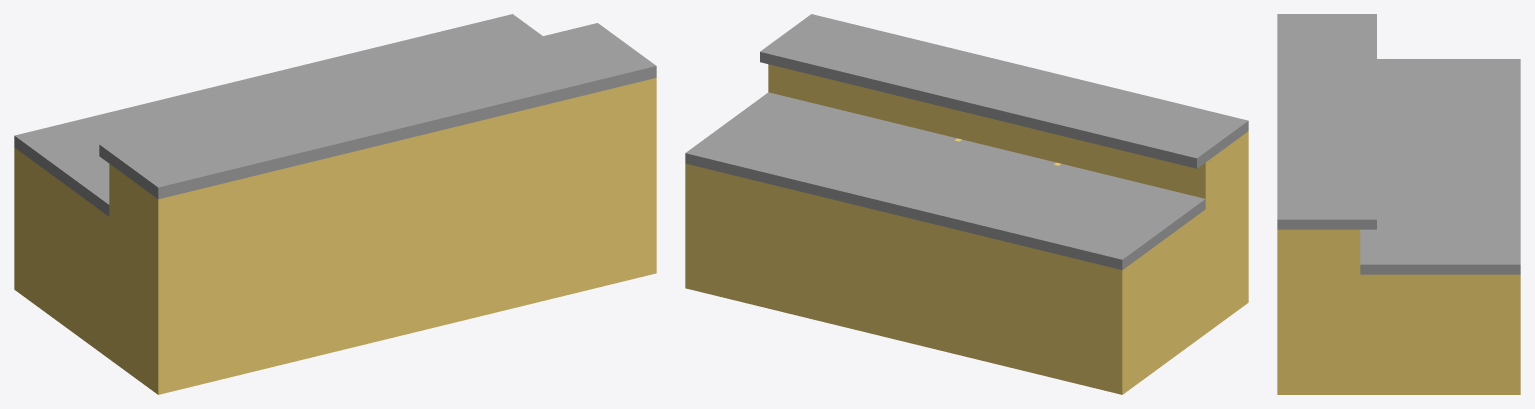
Rendered from Cafe_Counter1-2.fbx.
The picture shows the model from 3 angles, left to right: view 1: azimuth 30°, elevation 25°; view 2: azimuth 150°, elevation 25°; view 3: azimuth 270°, elevation 25°; orthographic projection. The views are drawn at different scales.
Parts seen in each view (by area): view 1: Cafe Counter1-2; view 2: Cafe Counter1-2; view 3: Cafe Counter1-2.
Part boxes in pixels (<box>): Cafe Counter1-2: <box>14,14,656,394</box>; Cafe Counter1-2: <box>685,14,1248,394</box>; Cafe Counter1-2: <box>1277,14,1520,394</box>.
Size of the model in its own units: 8.8 by 3.5 by 4.4.
